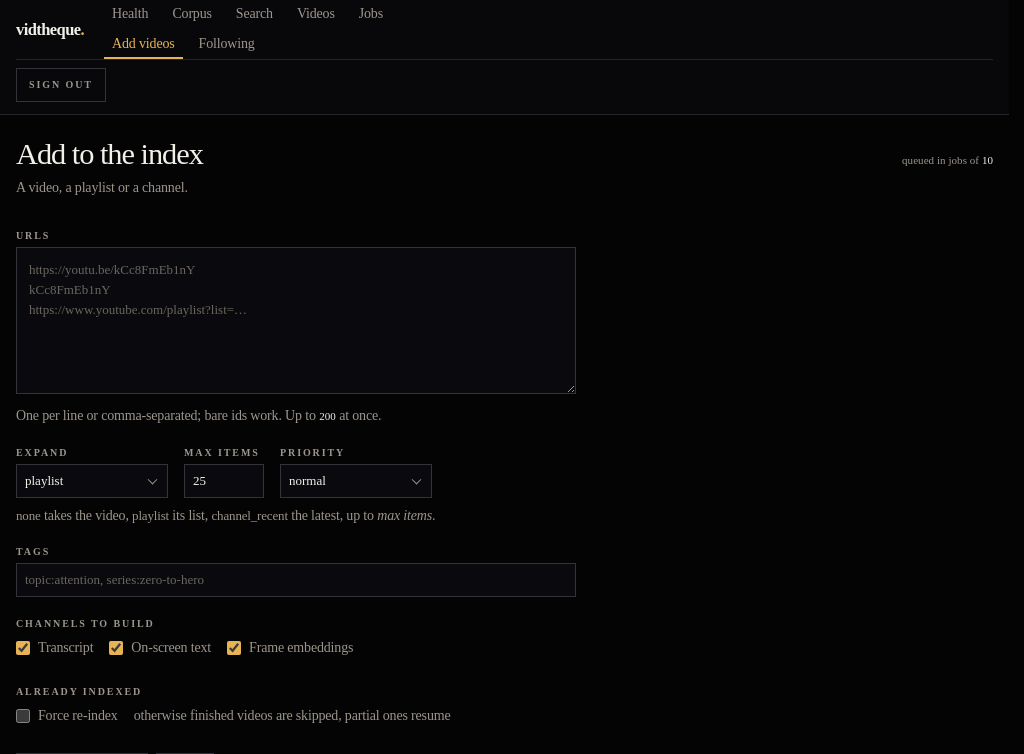
the index form › the refusals › prints the instance's own refusal when the session went away
Type "kCc8FmEb1nY" into the text box labelled "URLs".
click(296, 321); type("kCc8FmEb1nY")  # box x1=16 y1=247 x2=576 y2=394
(page scrolled)
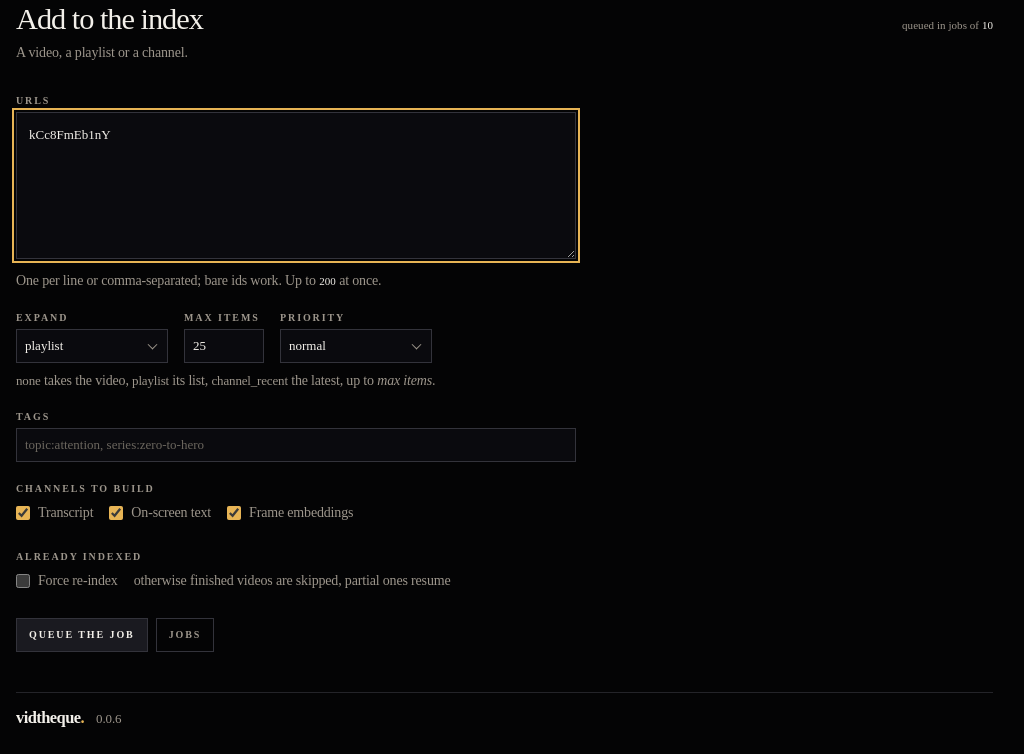
Click the button "Queue the job".
click(82, 635)  # box x1=16 y1=618 x2=148 y2=652
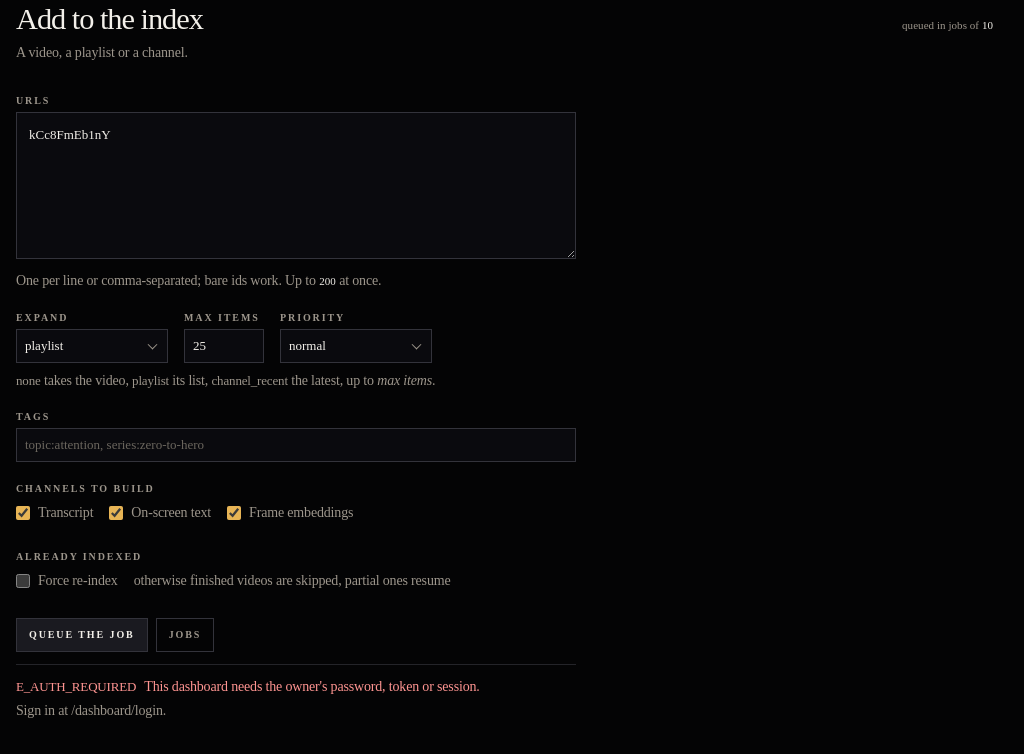
Now the text "This dashboard needs the owner's password, token or session." is shown, box x1=144 y1=677 x2=480 y2=697
Now the text "E_AUTH_REQUIRED" is shown, box x1=16 y1=678 x2=136 y2=696
